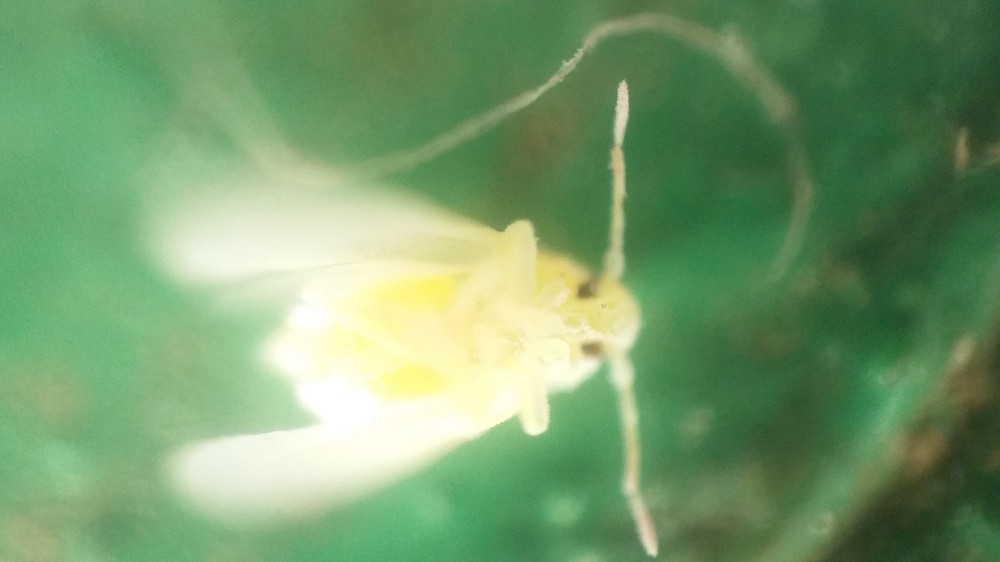Mosca Blanca: (129, 72, 683, 555)
